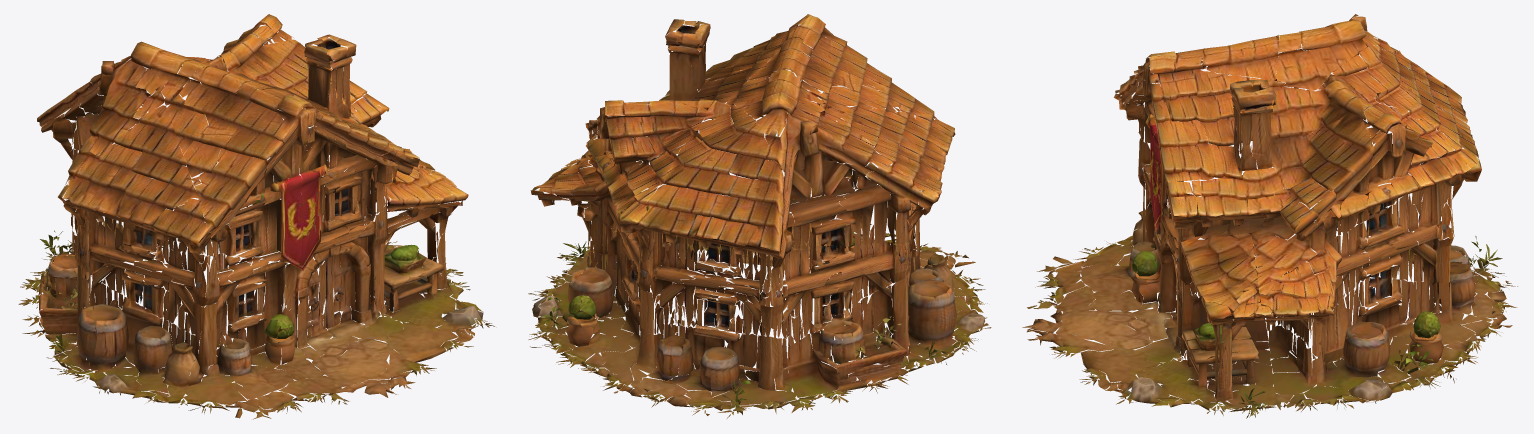
The model's file is hotel_t1.glb.
3 renders of one model, left to right at view 1: azimuth 30°, elevation 25°; view 2: azimuth 150°, elevation 25°; view 3: azimuth 270°, elevation 25°, orthographic. The views are drawn at different scales.
Parts seen in each view (by area): view 1: hotel_t1; view 2: hotel_t1; view 3: hotel_t1.
Part boxes in pixels (x1,y1,x2,y2): hotel_t1: (18,14,494,419); hotel_t1: (528,14,991,418); hotel_t1: (1022,14,1517,418).
Bounding box in the file's own units: 0.9787 × 0.593 × 0.9935.
1 material, 1 textured.
